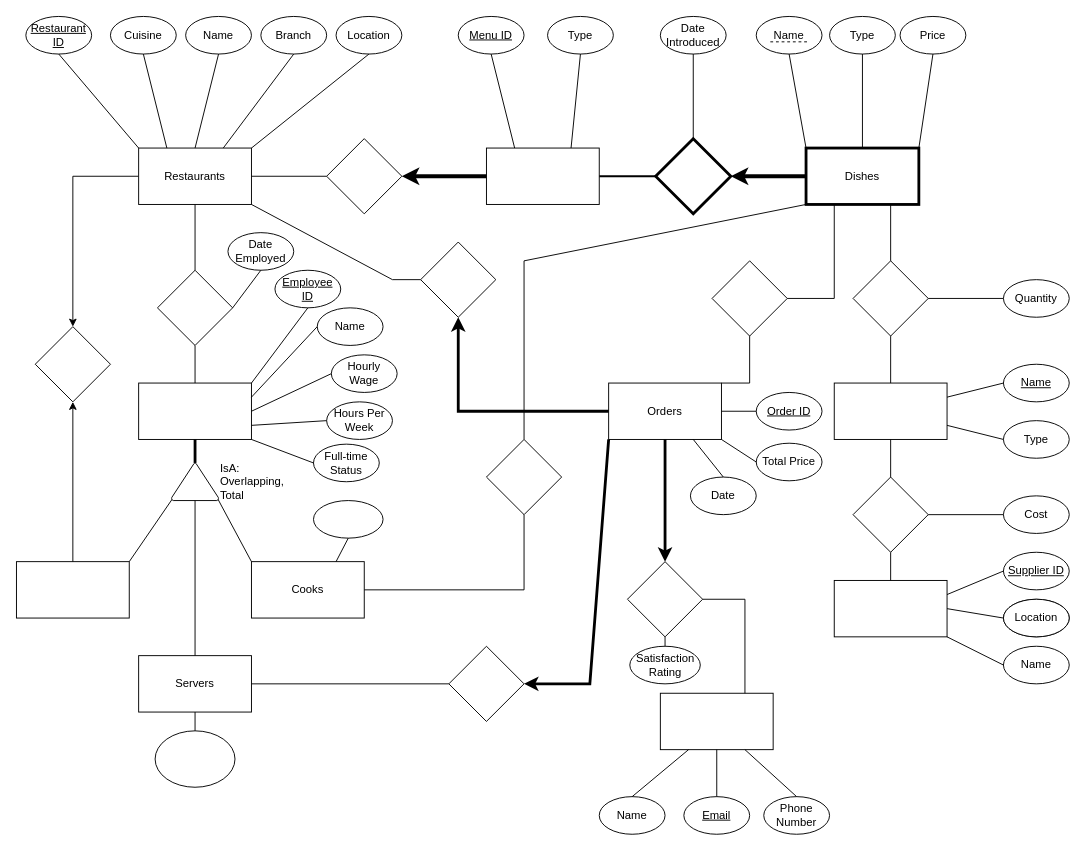
The diagram is 1086 pixels wide and 851 high, and some of its shapes have lost their labels. The shapes that lost their labels are listed below. From the top down, each one's centre as x and y in pixels, then its label:
[364,176]: Offer
[542,175]: Menus
[693,176]: Have
[458,279]: Take
[749,298]: Include
[890,298]: Contain
[195,307]: Employ
[72,364]: Manage
[194,410]: Employees
[890,410]: Ingredients
[524,477]: Can Cook
[348,519]: Rank
[890,514]: Supply
[72,589]: Managers
[665,599]: Place
[890,608]: Suppliers
[486,683]: Serve
[716,721]: Customers
[194,758]: Alcohol Serving Certification
